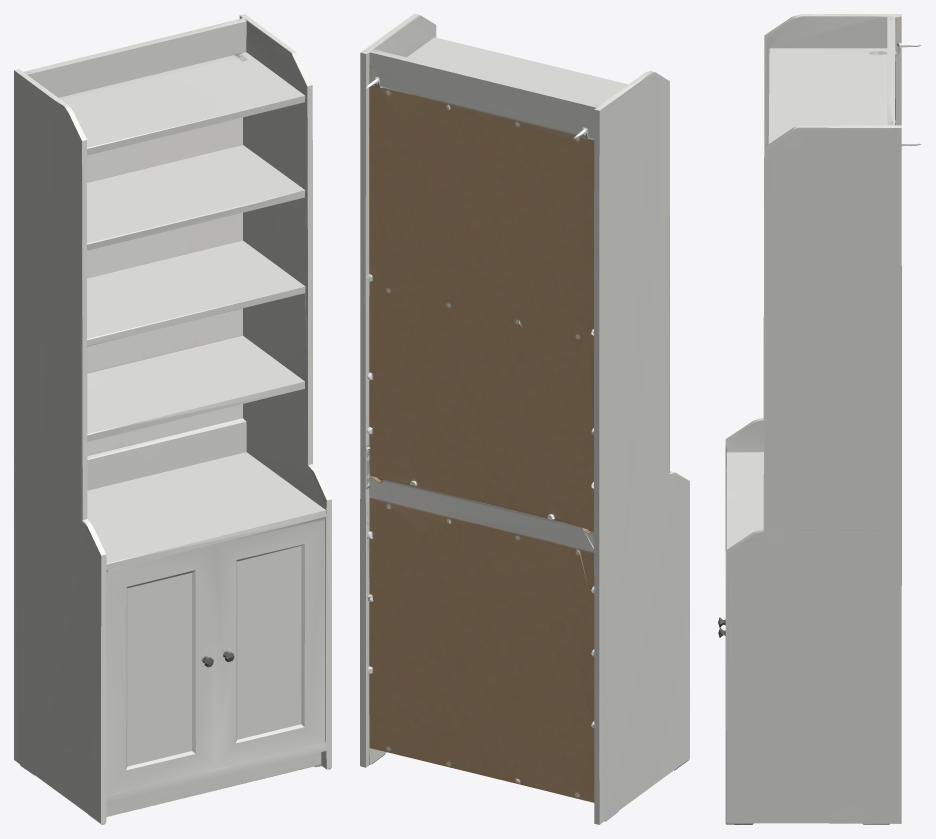
The model's file is 48 - HAUGA - 雙門高櫃, 白色, 70x199 公分 IKEA 線上購物.glb.
3 views of the same model, side by side, from view 1: azimuth 30°, elevation 25°; view 2: azimuth 150°, elevation 25°; view 3: azimuth 270°, elevation 25° (orthographic). The views are drawn at different scales.
Parts seen in each view (by area): view 1: ProcessedMeshNode; view 2: ProcessedMeshNode; view 3: ProcessedMeshNode.
Boxes of the visible parts, bbox=[...] form: ProcessedMeshNode: bbox=[14, 14, 331, 824]; ProcessedMeshNode: bbox=[360, 14, 689, 824]; ProcessedMeshNode: bbox=[718, 14, 921, 824].
Bounding box in the file's own units: 0.6969 × 1.99 × 0.5268.
1 material, 1 textured.
